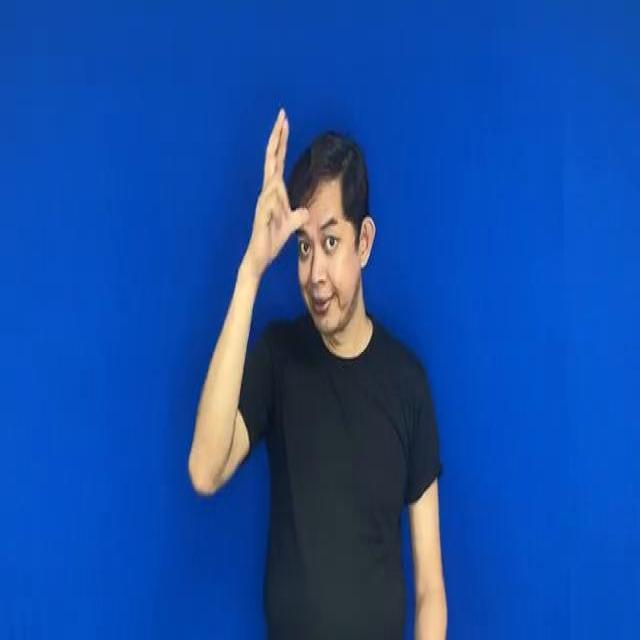chicken: (255, 98, 309, 266)
